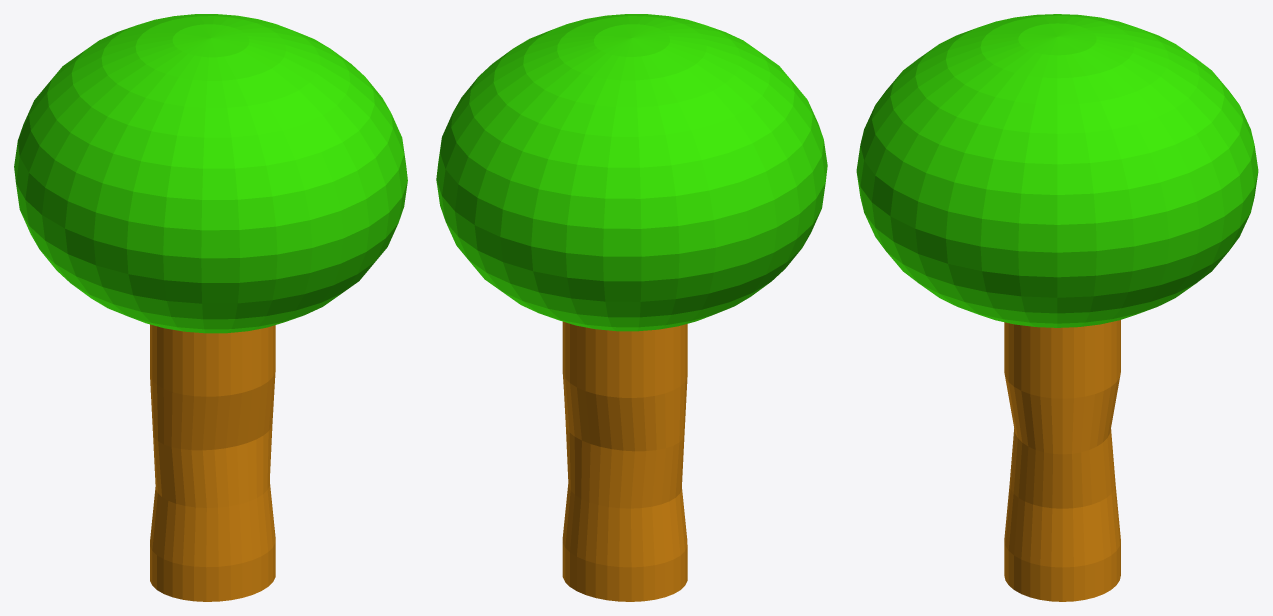
Rendered from tree.glb.
3 views of the same model, side by side, from view 1: azimuth 30°, elevation 25°; view 2: azimuth 150°, elevation 25°; view 3: azimuth 270°, elevation 25° (orthographic).
Visible parts, largest first — view 1: Sphere.003, Cylinder; view 2: Sphere.003, Cylinder; view 3: Sphere.003, Cylinder.
Part boxes in pixels (box(x1,y1,x2,y2)): Sphere.003: box(14, 14, 407, 333); Cylinder: box(150, 324, 275, 601); Sphere.003: box(436, 14, 827, 331); Cylinder: box(562, 321, 687, 601); Sphere.003: box(856, 14, 1258, 327); Cylinder: box(1004, 320, 1120, 601).
Bounding box in the file's own units: 3.34 × 5.1 × 3.47.
